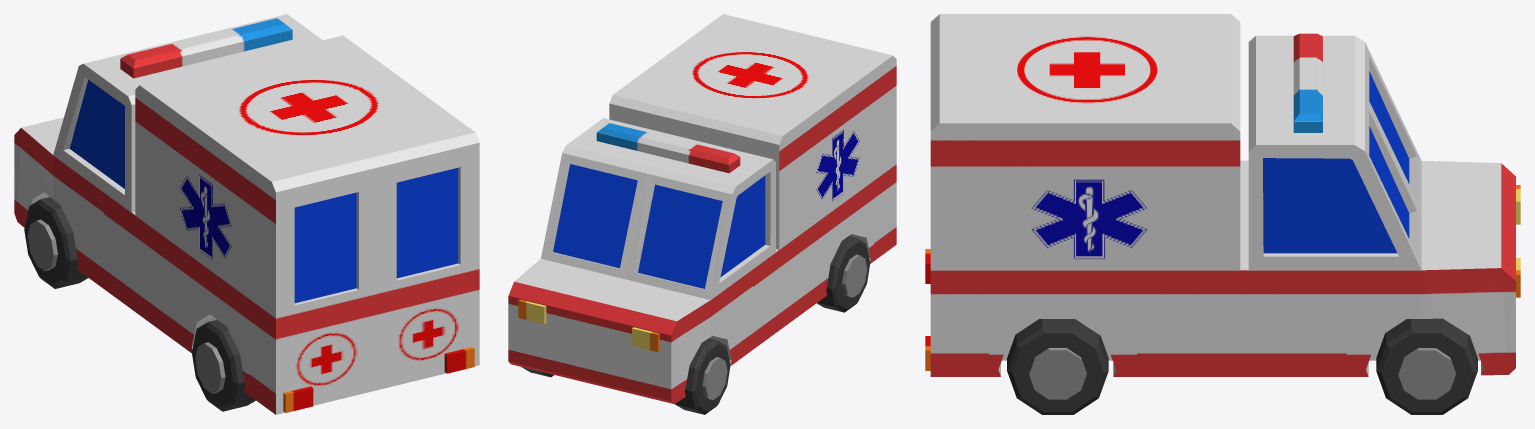
The model's file is low_poly_ambulance.obj.
3 renders of one model, left to right at view 1: azimuth 30°, elevation 25°; view 2: azimuth 150°, elevation 25°; view 3: azimuth 270°, elevation 25°, orthographic. The views are drawn at different scales.
Parts seen in each view (by area): view 1: Cube.002_Ambulance_0; view 2: Cube.002_Ambulance_0; view 3: Cube.002_Ambulance_0.
Part boxes in pixels (<box>): Cube.002_Ambulance_0: <box>14,14,479,414</box>; Cube.002_Ambulance_0: <box>508,14,896,414</box>; Cube.002_Ambulance_0: <box>925,14,1520,414</box>.
Bounding box in the file's own units: 483 × 544 × 1013.
Materials: 1 (1 with a texture image).
